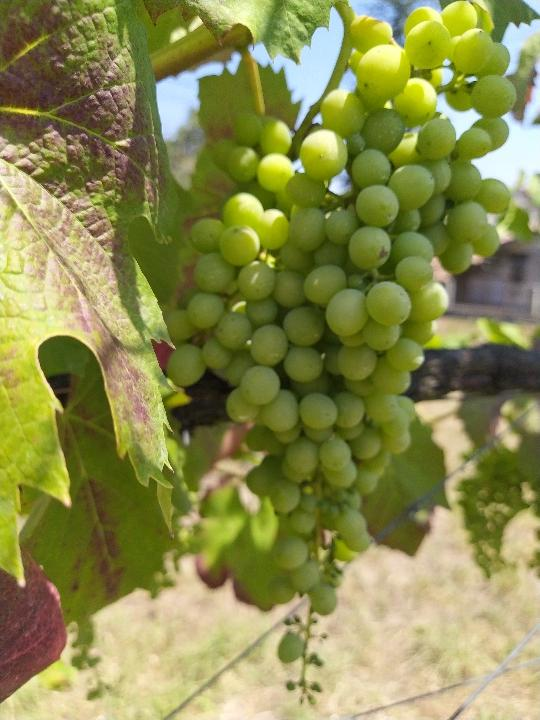grape: (169, 1, 518, 711)
